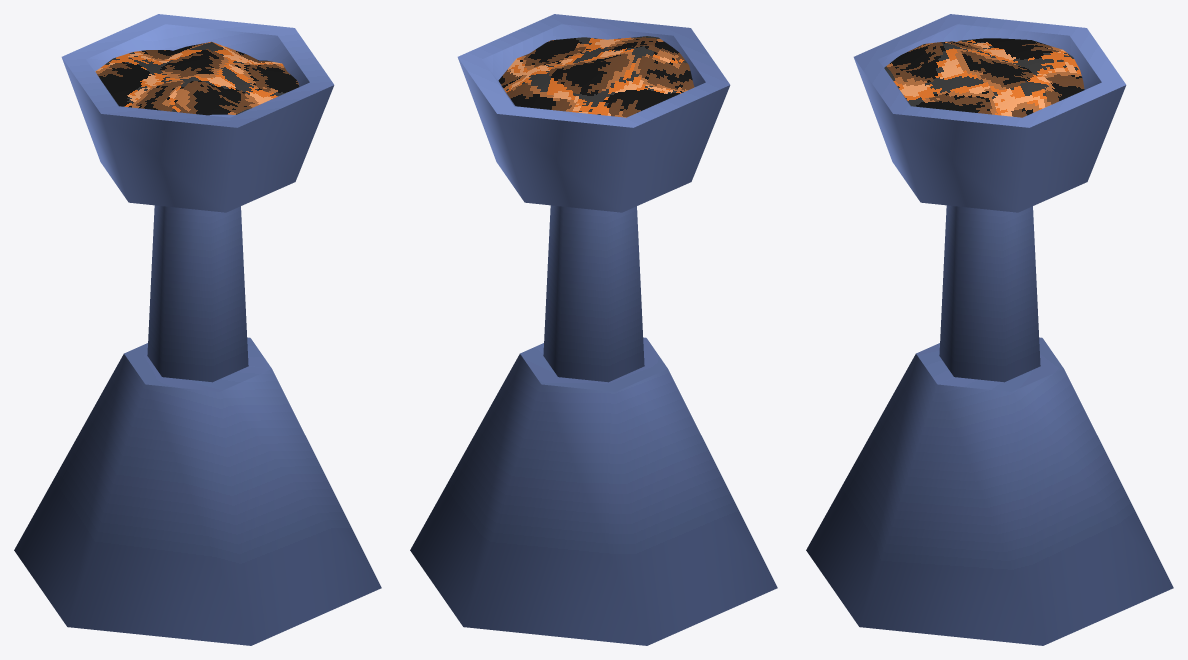
File: Lamp.fbx
3 renders of one model, left to right at view 1: azimuth 30°, elevation 25°; view 2: azimuth 150°, elevation 25°; view 3: azimuth 270°, elevation 25°, orthographic.
Visible parts, largest first — view 1: Torch, Cube; view 2: Torch, Cube; view 3: Torch, Cube.
Part boxes in pixels (x1=…): Torch: x1=14, y1=14, x2=381, y2=645; Cube: x1=95, y1=41, x2=299, y2=115; Torch: x1=410, y1=14, x2=777, y2=645; Cube: x1=498, y1=36, x2=694, y2=117; Torch: x1=806, y1=14, x2=1173, y2=645; Cube: x1=884, y1=38, x2=1084, y2=117.
Size of the model in its own units: 100 by 156 by 101.
